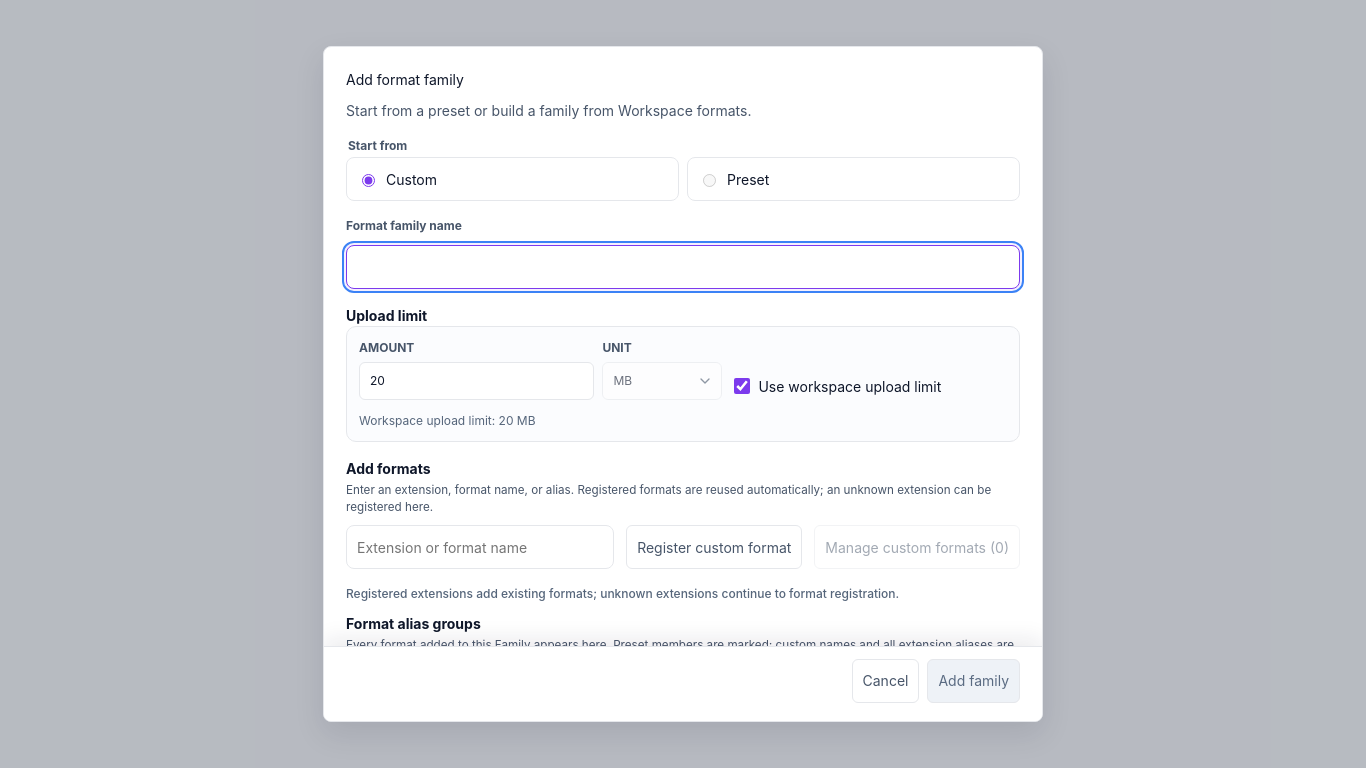
Test: Format Family alias-group editor › opens inline registration with an unknown extension prefilled
The width and height of the screenshot is (1366, 768).
In the dropdown named "Add formats": (480, 547) [346,525,614,569], type "newext"
Then press Enter
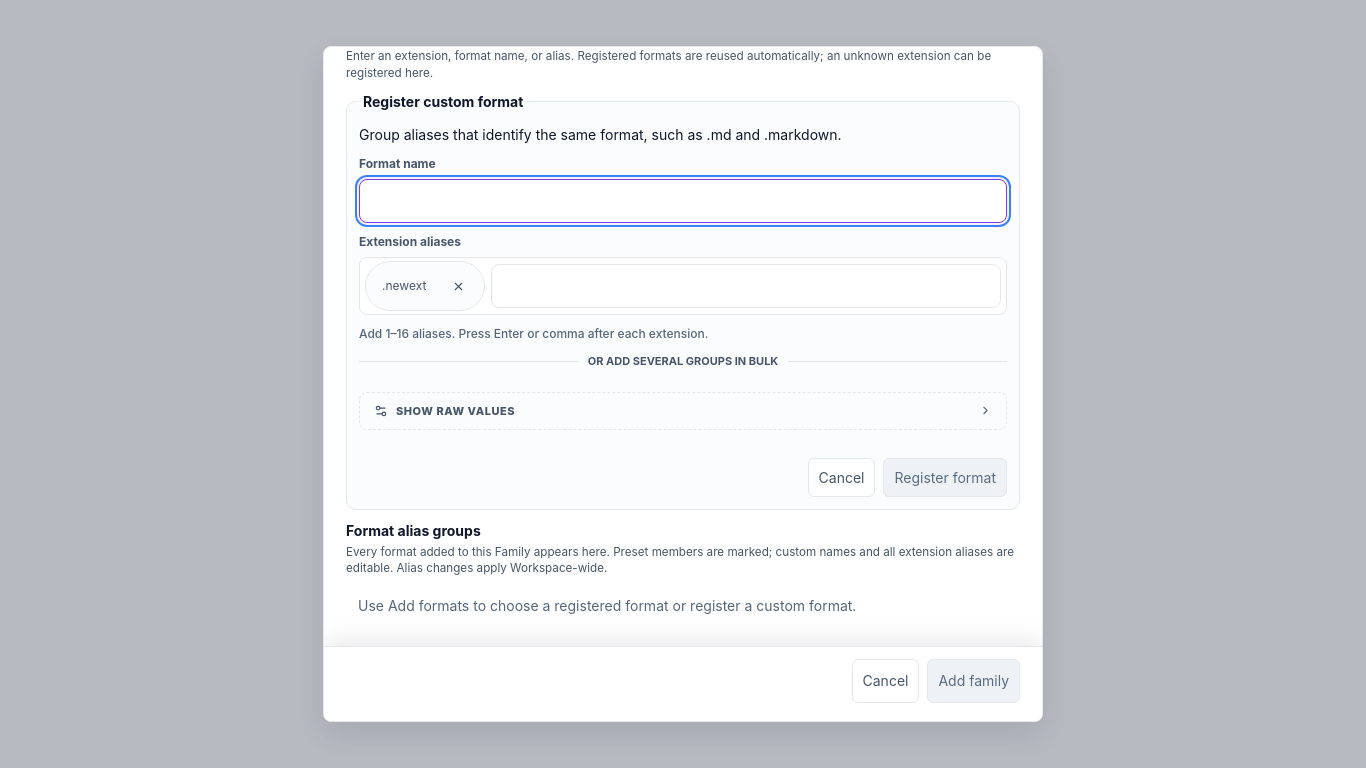
Expected: the element "Register custom format" is shown, [346,91,1020,510]
Expected: the button ".newext" is shown, [376,264,432,308]
Expected: the field labelled "Format name" is empty, [359,179,1007,223]
